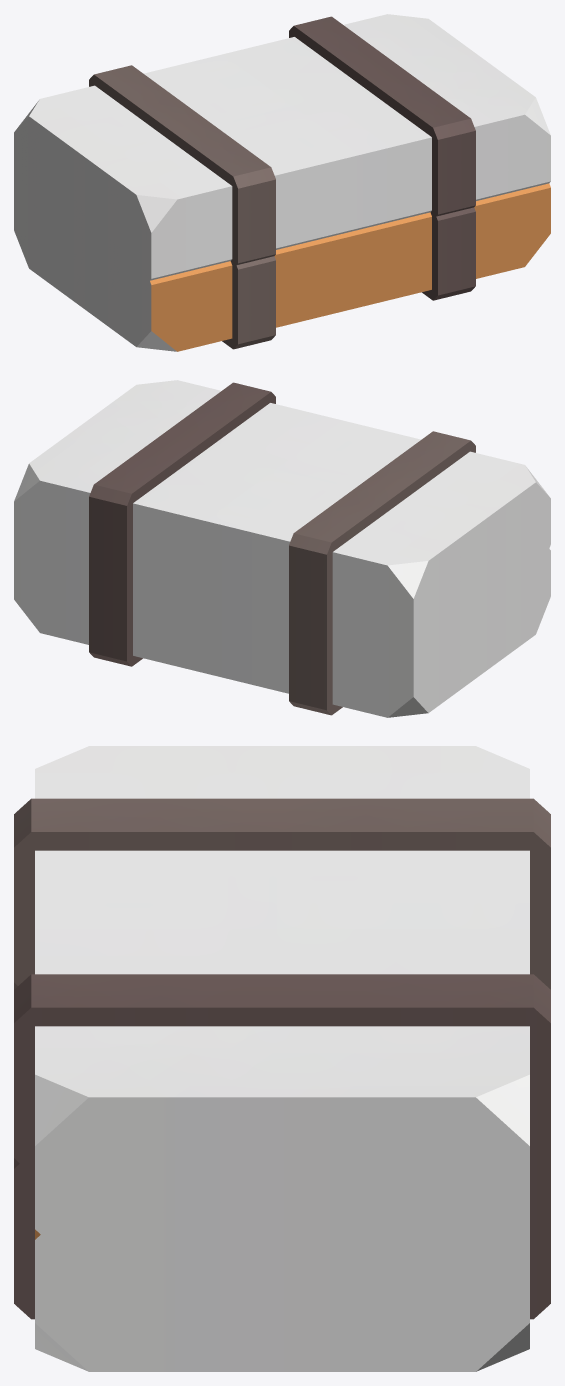
File: caisse.FBX
3 views of the same model, one above another, from view 1: azimuth 30°, elevation 25°; view 2: azimuth 150°, elevation 25°; view 3: azimuth 270°, elevation 25° (orthographic). The views are drawn at different scales.
Visible parts, largest first — view 1: caisse; view 2: caisse; view 3: caisse.
Boxes of the visible parts, x1,y1,x2,y2 form: caisse: [14, 14, 550, 351]; caisse: [14, 380, 550, 717]; caisse: [14, 746, 550, 1371].
Size of the model in its own units: 7.68 by 3.17 by 4.96.
